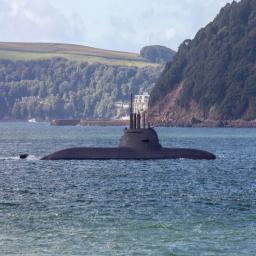submarine: (20, 93, 221, 159)
